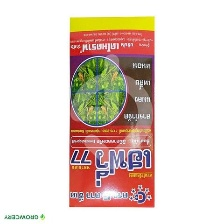insecticide: (67, 28, 157, 210)
